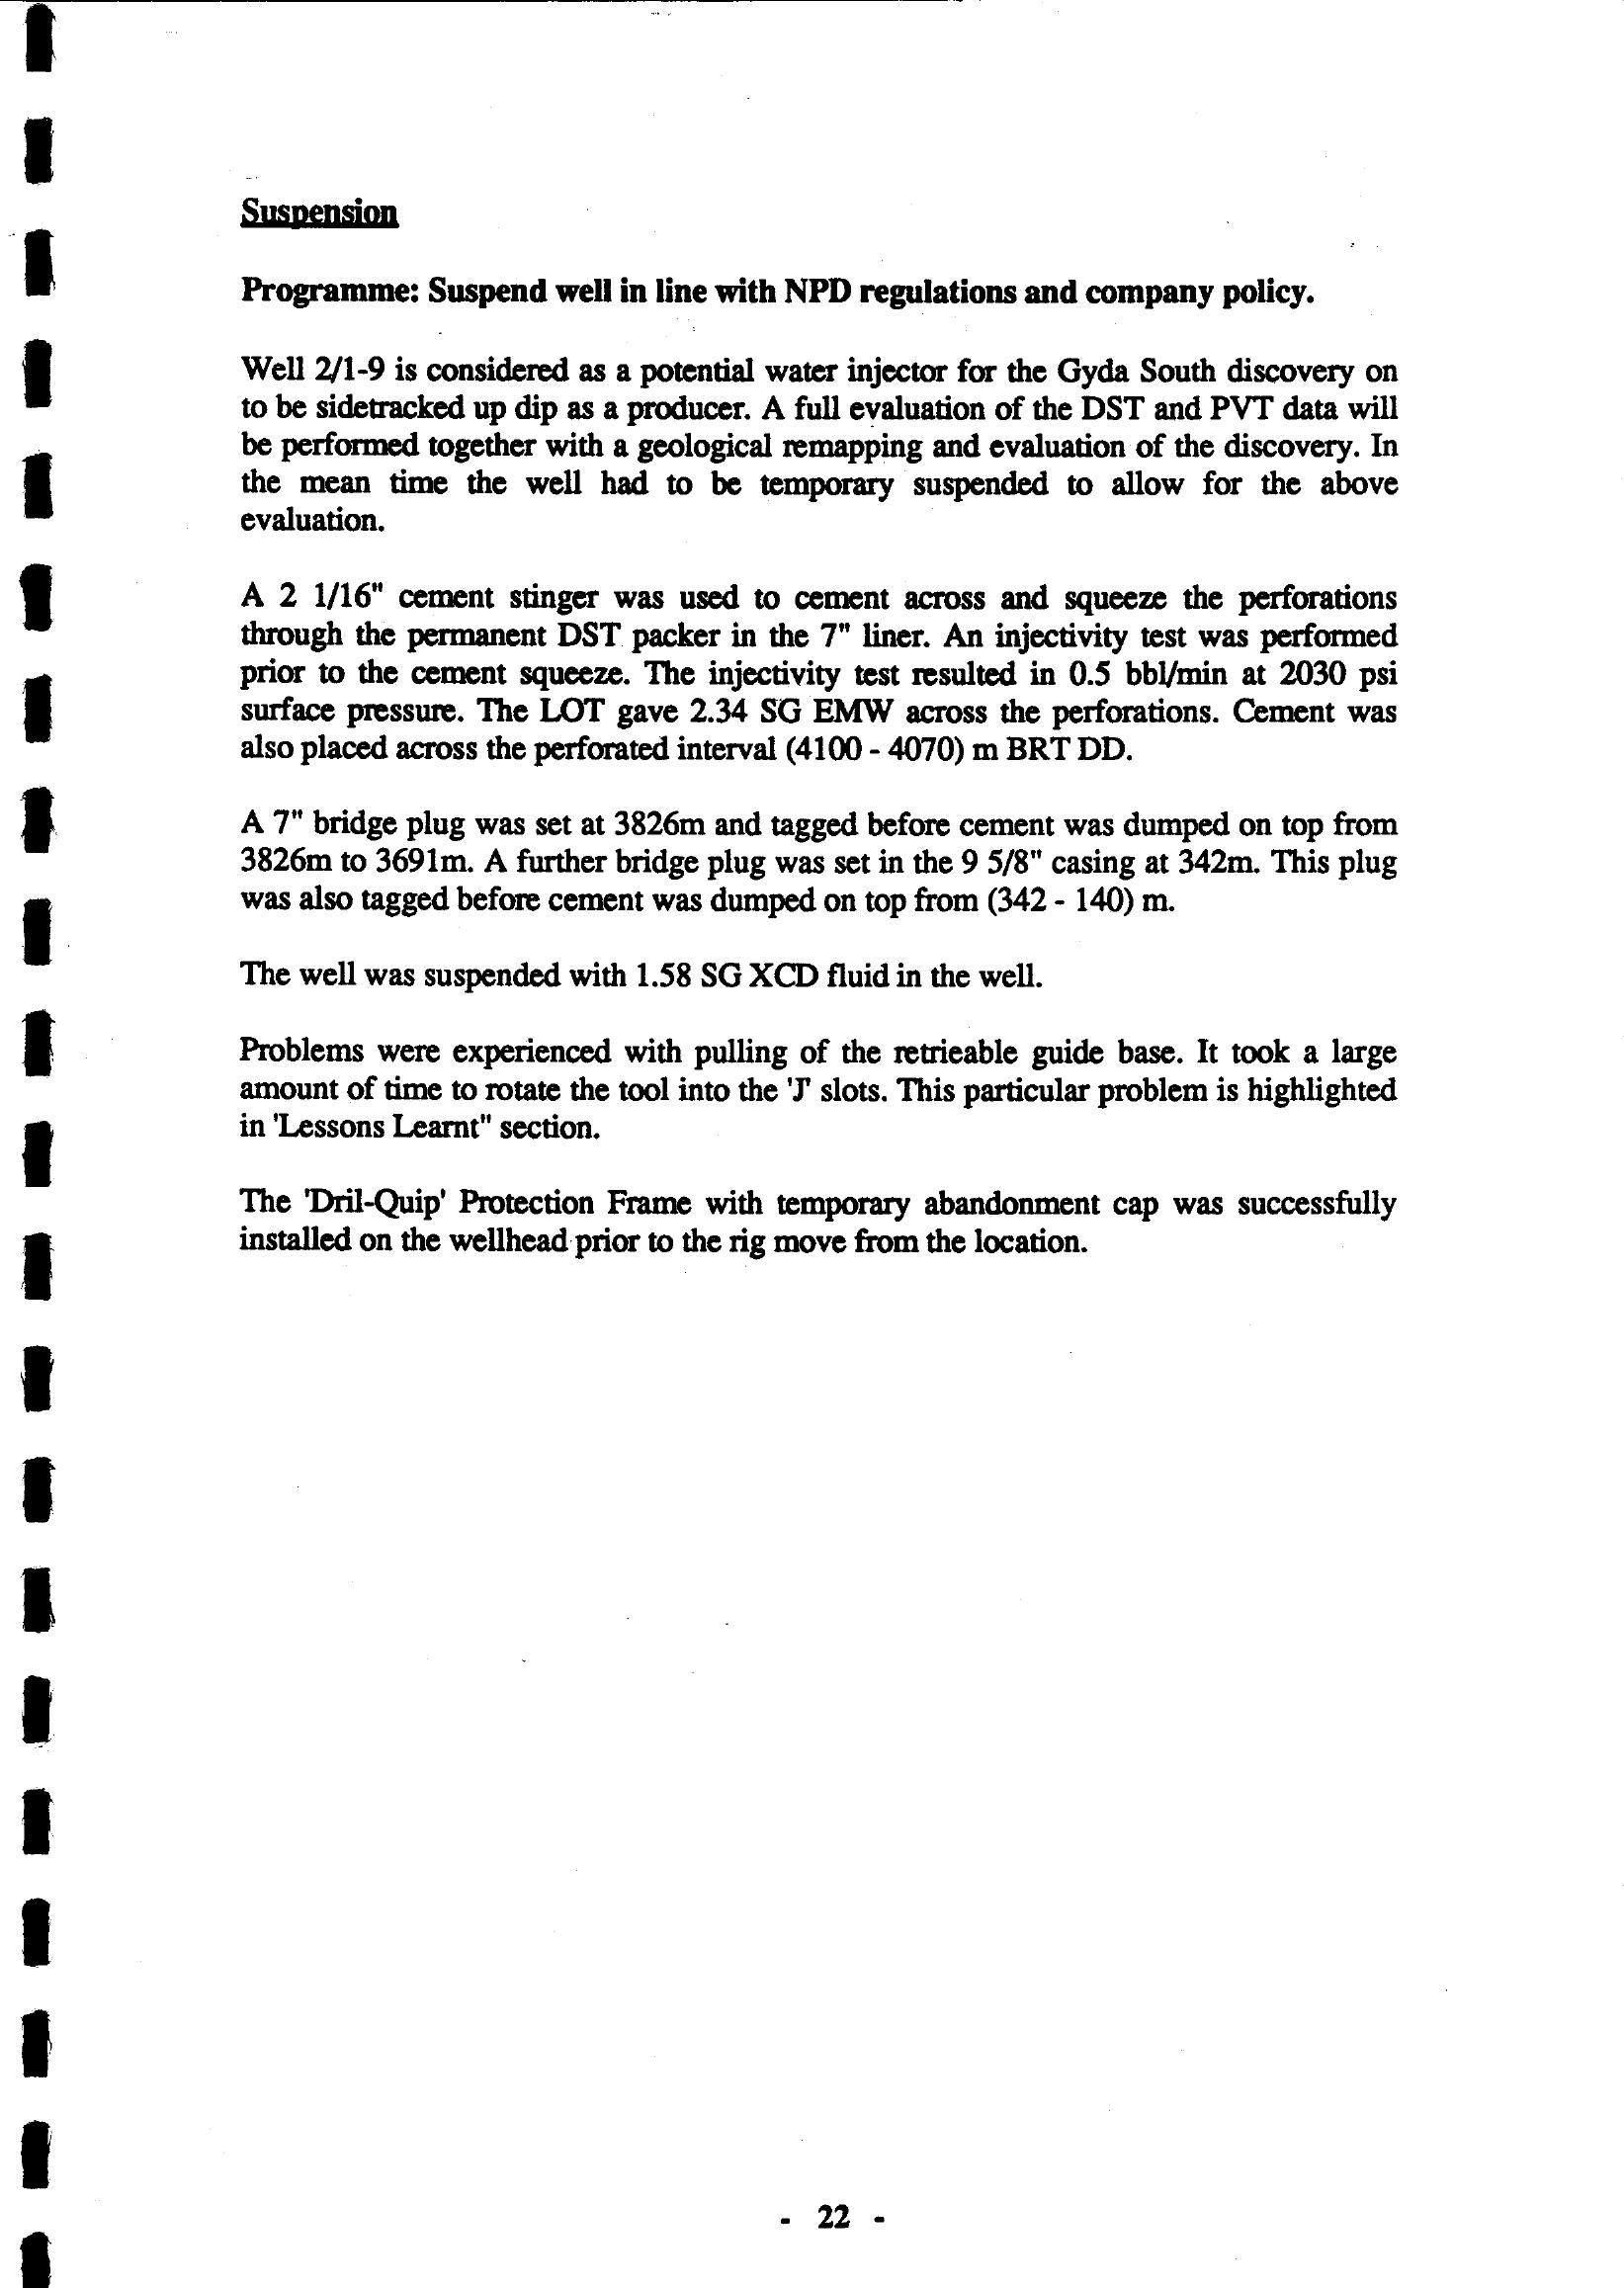text: (197, 176, 1443, 1311)
